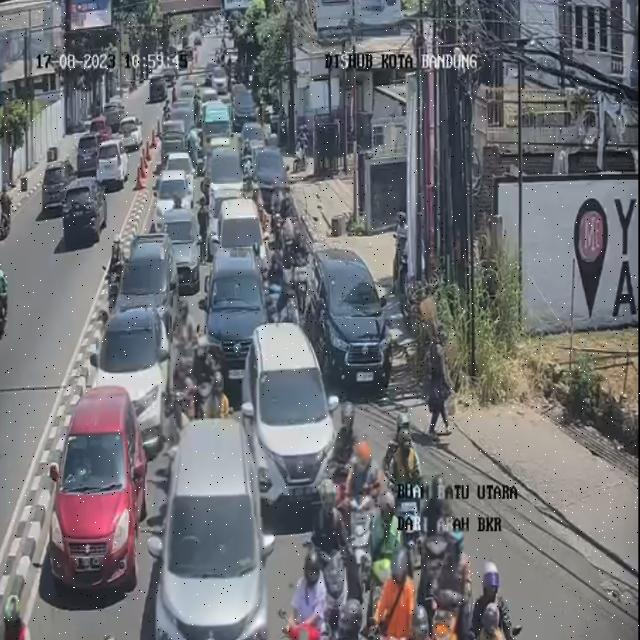cars: (153, 416, 271, 638), (49, 386, 145, 598), (240, 323, 336, 517), (96, 295, 174, 442), (310, 243, 384, 375), (208, 250, 267, 378), (122, 233, 181, 332), (218, 195, 266, 272), (162, 201, 203, 290), (207, 137, 243, 214), (205, 183, 242, 248), (157, 165, 193, 229), (253, 142, 286, 209), (160, 119, 189, 170), (203, 99, 229, 150), (164, 150, 197, 187), (242, 122, 267, 170), (235, 84, 260, 131), (200, 95, 226, 128), (198, 88, 221, 118), (172, 104, 194, 128), (212, 67, 228, 96)
motorcycle: (315, 494, 354, 636), (346, 441, 384, 581), (289, 544, 336, 640), (386, 434, 421, 554), (330, 402, 362, 524), (380, 546, 420, 640), (421, 475, 452, 593), (437, 528, 468, 640), (184, 334, 224, 418), (473, 565, 511, 640), (173, 296, 197, 392), (283, 223, 306, 298), (263, 252, 287, 320), (0, 597, 37, 640)
